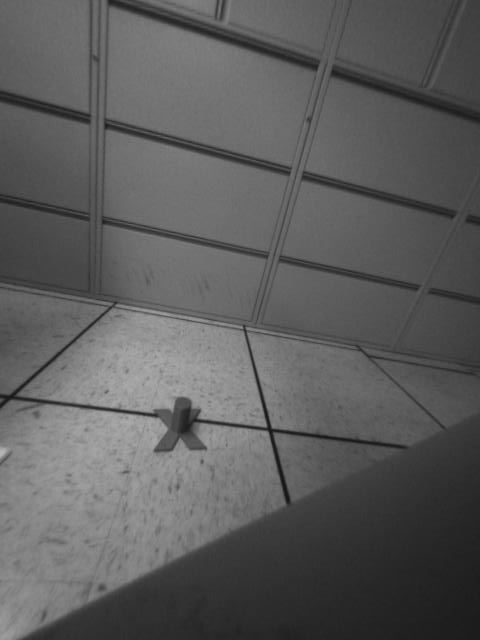X: (154, 396, 209, 455)
